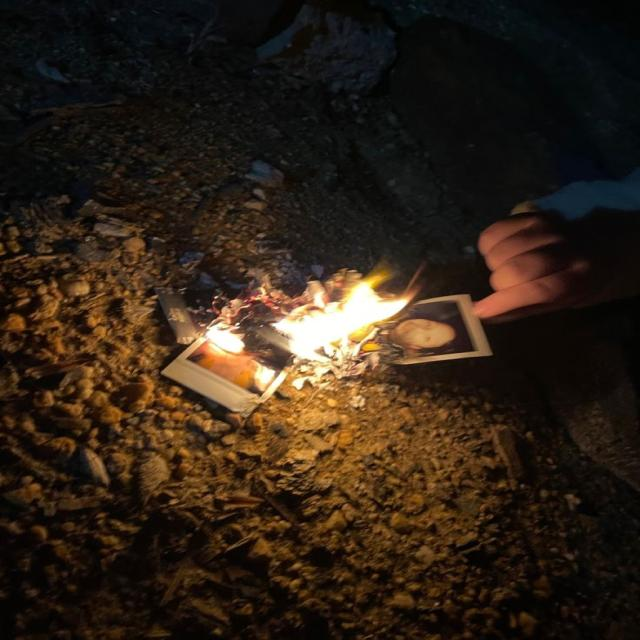fire: (271, 280, 419, 363)
